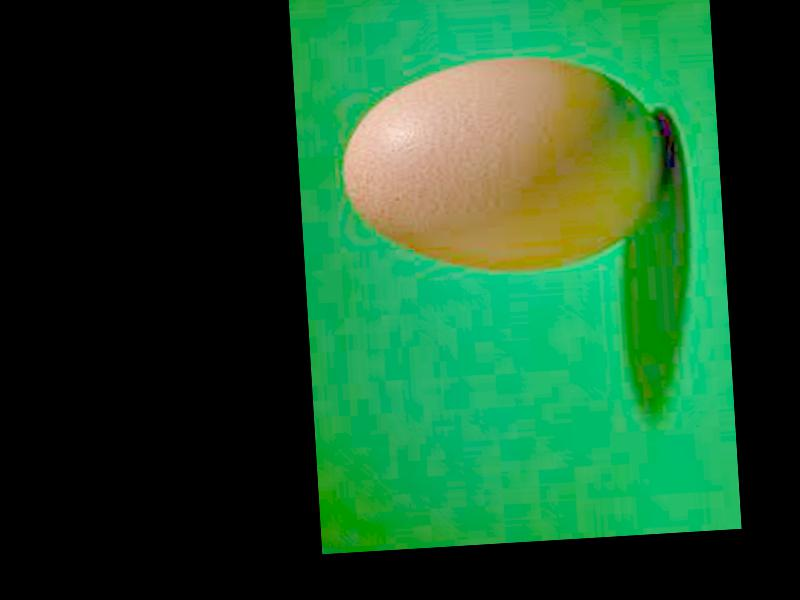Eggs: (339, 48, 670, 281)
